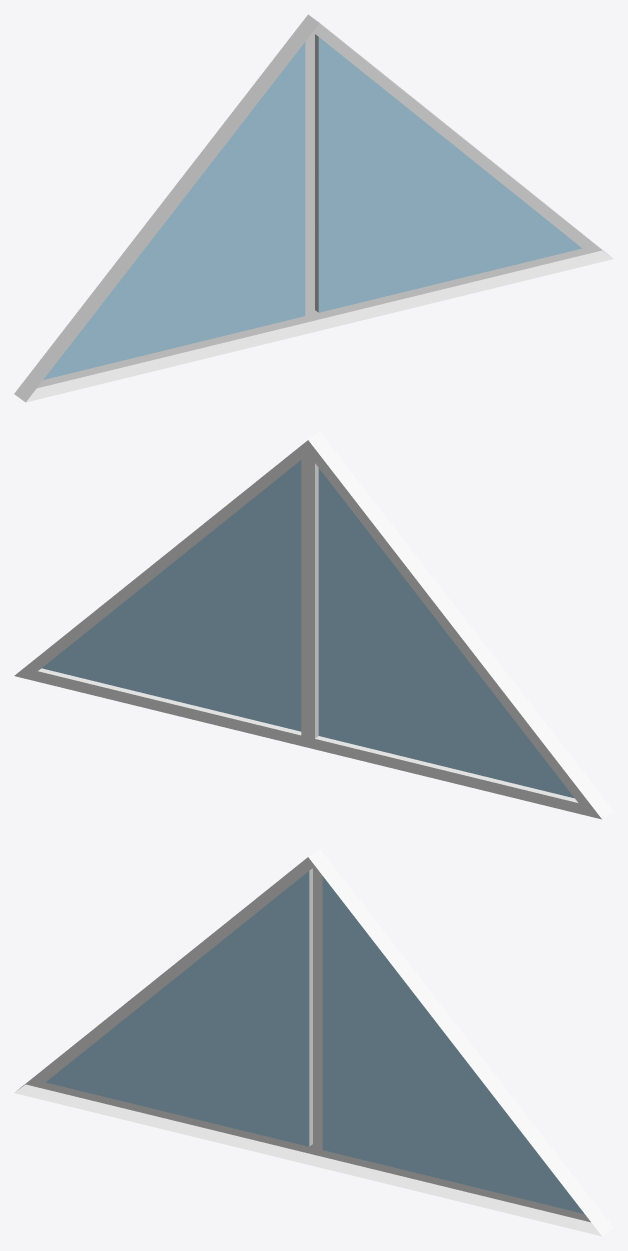
File: TwoRoofFrontWindow.fbx
The picture shows the model from 3 angles, top to bottom: view 1: azimuth 30°, elevation 25°; view 2: azimuth 150°, elevation 25°; view 3: azimuth 330°, elevation 25°; orthographic projection.
Visible parts, largest first — view 1: TwoRoofFrontWindow_LOD0; view 2: TwoRoofFrontWindow_LOD0; view 3: TwoRoofFrontWindow_LOD0.
Boxes of the visible parts, x1,y1,x2,y2 form: TwoRoofFrontWindow_LOD0: [14, 14, 613, 402]; TwoRoofFrontWindow_LOD0: [14, 431, 613, 819]; TwoRoofFrontWindow_LOD0: [14, 848, 613, 1236].
Size of what is drawn, in the model's own units: 870 by 435 by 30.
